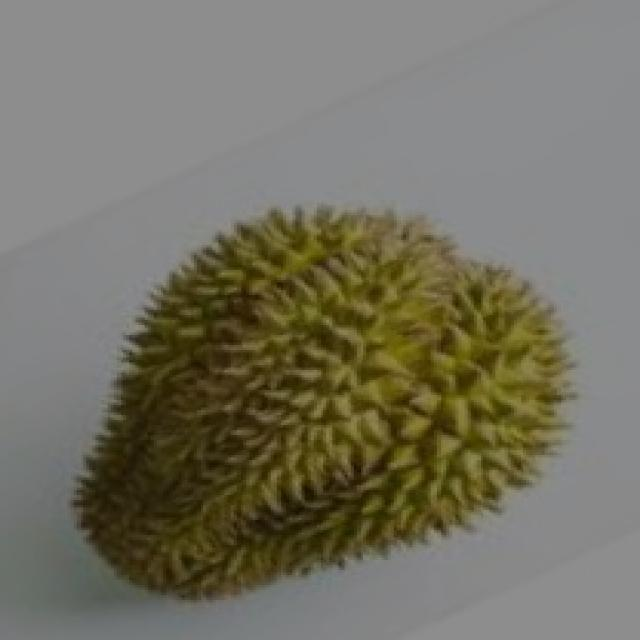fruit: (40, 247, 437, 640), (262, 225, 622, 615)
